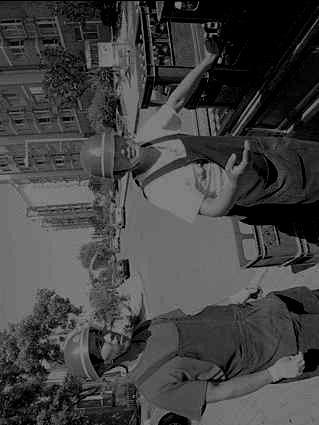helmet: (63, 323, 132, 384), (79, 133, 144, 181)
